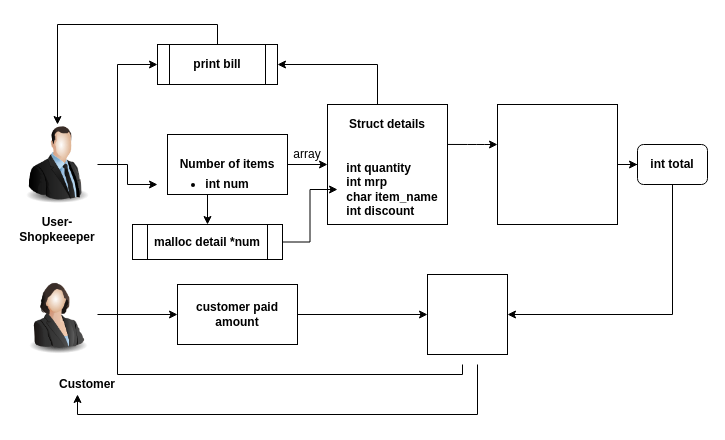
Some shapes in this 725 by 440 pixel diagram are drawn without their labels. The centre of each missing label's shape, as x and y in pixels:
bal() int total int paid: [467,314]
calc() parameters: int discount int mrp int quantity: [557,164]
